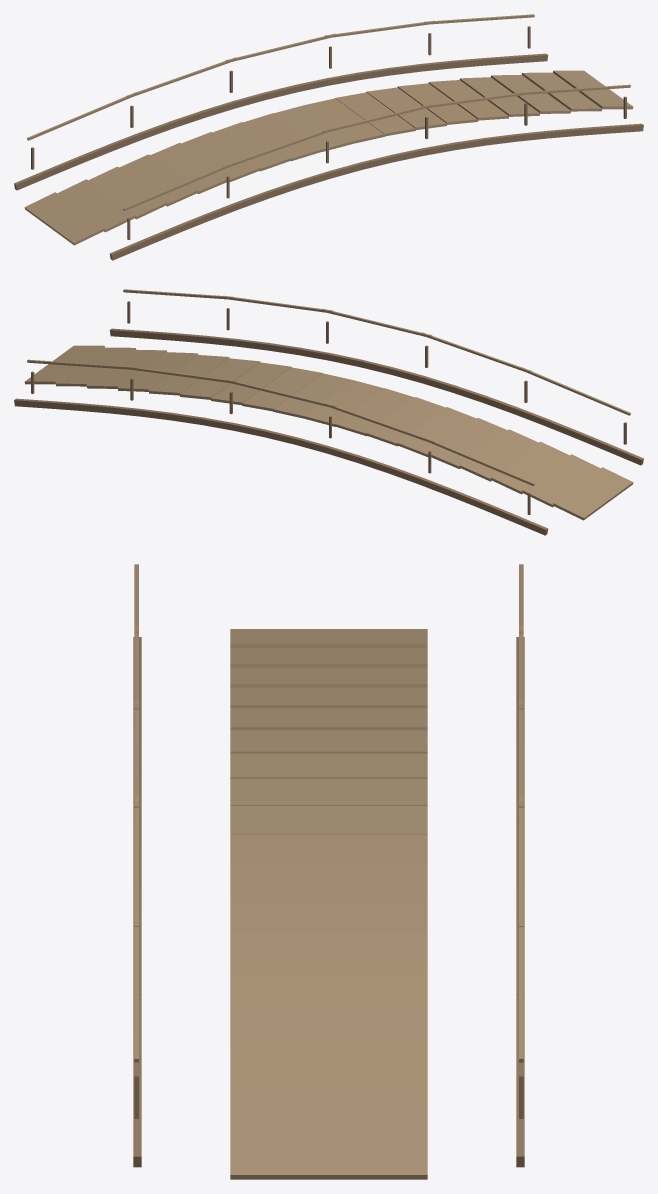
The model's file is Bridge.glb.
3 views of the same model, one above another, from view 1: azimuth 30°, elevation 25°; view 2: azimuth 150°, elevation 25°; view 3: azimuth 270°, elevation 25° (orthographic). The views are drawn at different scales.
Parts seen in each view (by area): view 1: Bridge; view 2: Bridge; view 3: Bridge.
Part boxes in pixels (x1,y1,x2,y2): Bridge: (14,14,643,260); Bridge: (14,289,643,535); Bridge: (133,564,524,1179).
Size of the model in its own units: 13.77 by 1.84 by 4.17.
